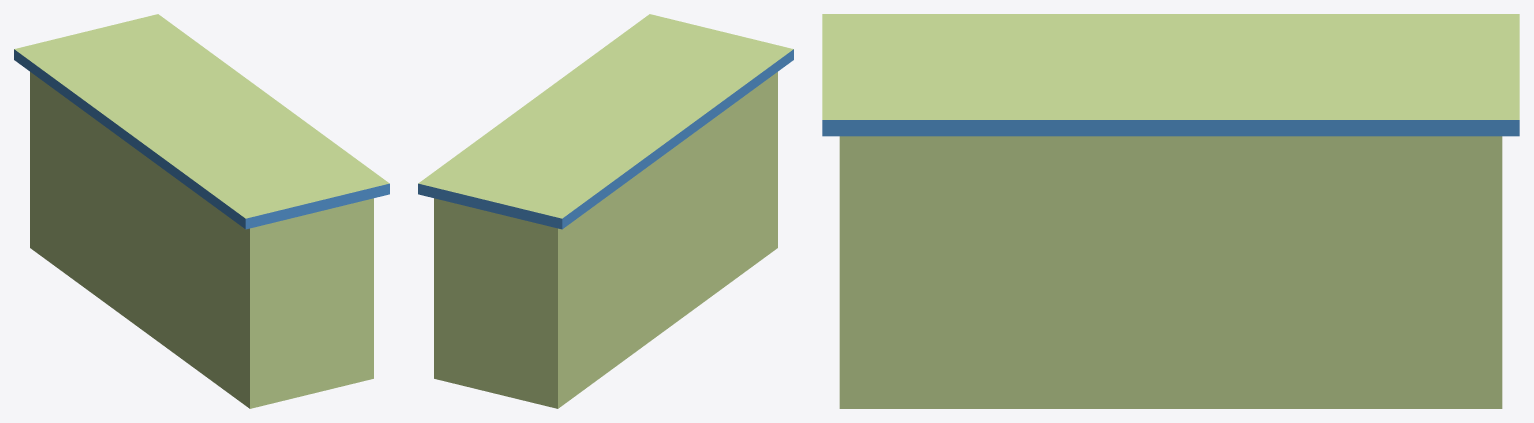
File: Desk2.fbx
3 views of the same model, side by side, from view 1: azimuth 30°, elevation 25°; view 2: azimuth 150°, elevation 25°; view 3: azimuth 270°, elevation 25° (orthographic). The views are drawn at different scales.
Parts seen in each view (by area): view 1: Desk2; view 2: Desk2; view 3: Desk2.
Boxes of the visible parts, left/top/right/bottom form: Desk2: left=14, top=14, right=389, bottom=408; Desk2: left=418, top=14, right=793, bottom=408; Desk2: left=822, top=14, right=1519, bottom=408.
Size of the model in its own units: 0.6756 by 0.8825 by 1.88.
